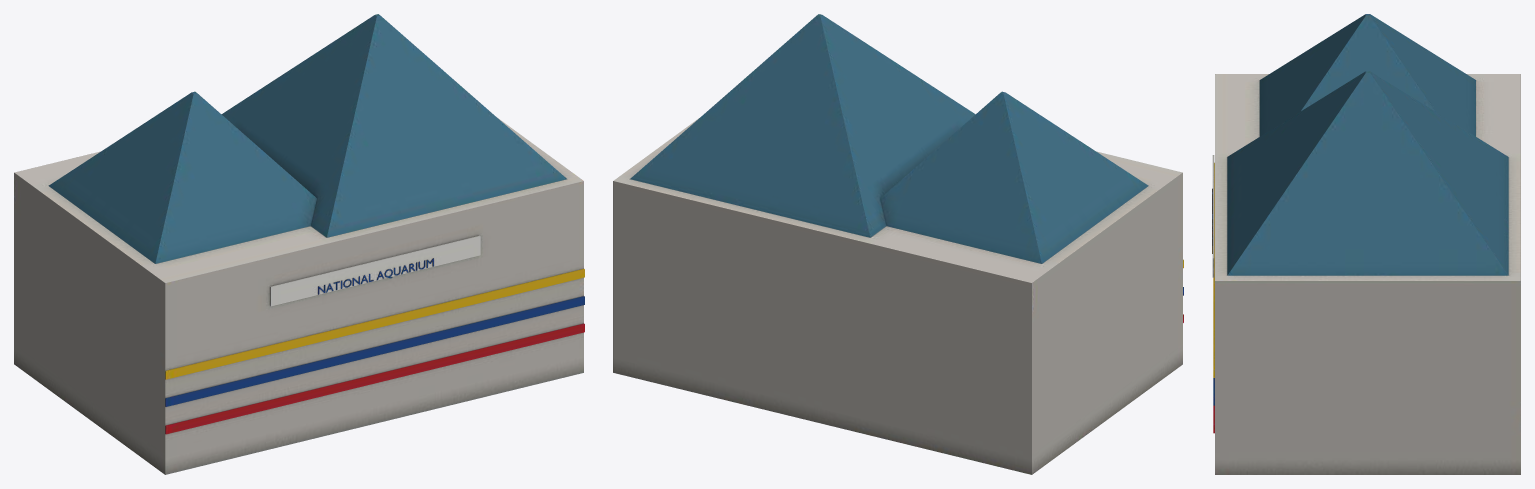
File: acuario.glb
3 views of the same model, side by side, from view 1: azimuth 30°, elevation 25°; view 2: azimuth 150°, elevation 25°; view 3: azimuth 270°, elevation 25° (orthographic).
Parts seen in each view (by area): view 1: acuario; view 2: acuario; view 3: acuario.
Boxes of the visible parts, box(x1,y1,x2,y2) form: acuario: box(14, 14, 584, 474); acuario: box(613, 14, 1183, 474); acuario: box(1212, 14, 1520, 474).
Size of the model in its own units: 32 by 24.4 by 20.19.
Materials: 1 (1 with a texture image).
